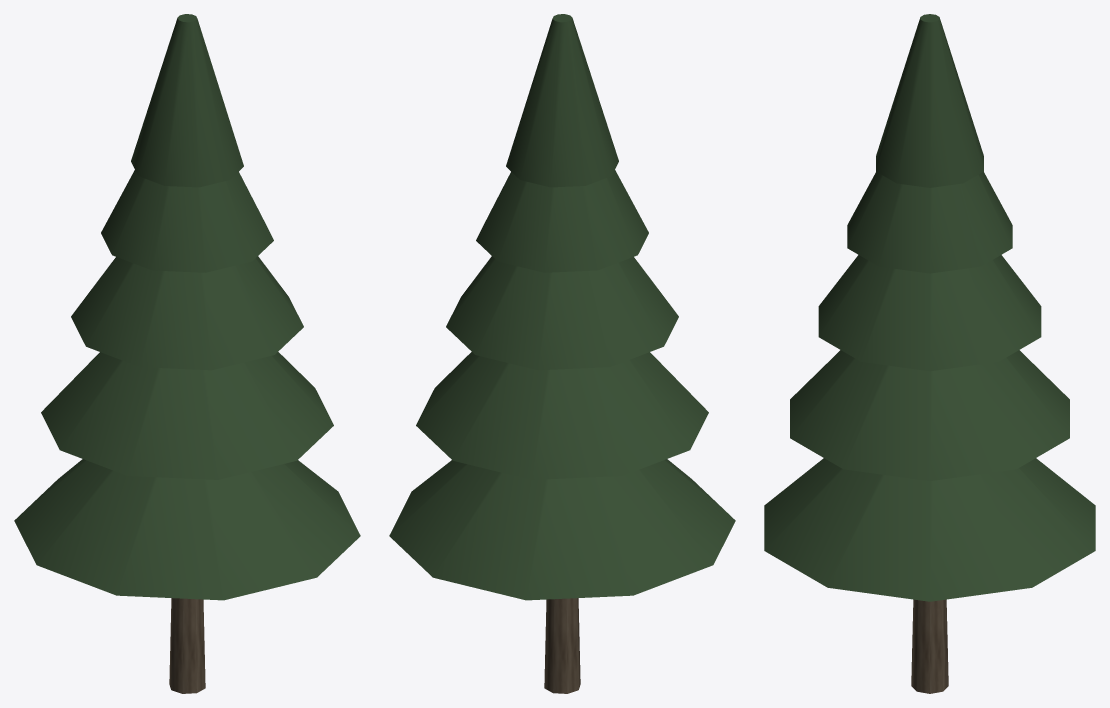
Rendered from pine_tree.gltf.
3 renders of one model, left to right at view 1: azimuth 30°, elevation 25°; view 2: azimuth 150°, elevation 25°; view 3: azimuth 270°, elevation 25°, orthographic.
Parts seen in each view (by area): view 1: pine_tree_mesh; view 2: pine_tree_mesh; view 3: pine_tree_mesh.
Boxes of the visible parts, left/top/right/bottom form: pine_tree_mesh: left=14, top=14, right=360, bottom=693; pine_tree_mesh: left=389, top=14, right=735, bottom=693; pine_tree_mesh: left=764, top=14, right=1095, bottom=693.
Size of what is drawn, in the model's own units: 5.2 by 11 by 4.95.
2 materials, 1 textured.
